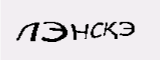А: (93, 17, 113, 45)
В: (83, 21, 95, 43)
Ж: (51, 19, 73, 41)
З: (39, 20, 54, 41)
С: (73, 19, 86, 41)
